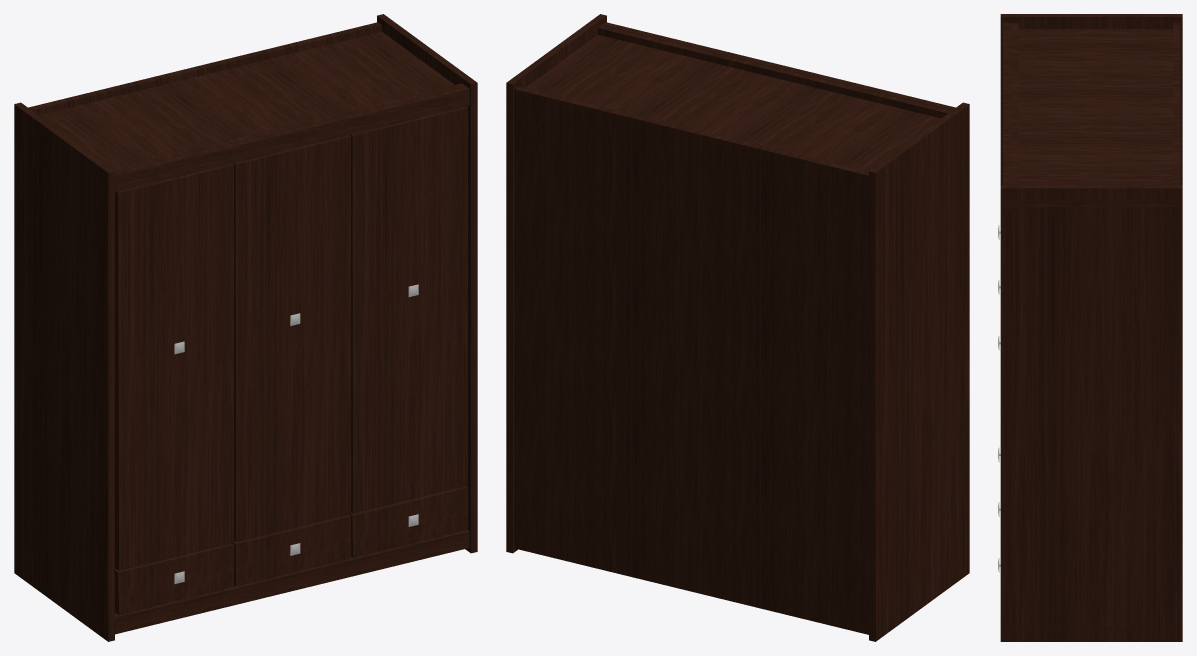
Rendered from wooden-cab7.glb.
3 renders of one model, left to right at view 1: azimuth 30°, elevation 25°; view 2: azimuth 150°, elevation 25°; view 3: azimuth 270°, elevation 25°, orthographic. The views are drawn at different scales.
Parts seen in each view (by area): view 1: Cube_8_PBR_0; view 2: Cube_8_PBR_0; view 3: Cube_8_PBR_0.
Part boxes in pixels (left/top/right/bottom): Cube_8_PBR_0: left=14, top=14, right=477, bottom=641; Cube_8_PBR_0: left=506, top=14, right=969, bottom=641; Cube_8_PBR_0: left=998, top=14, right=1182, bottom=641.
Bounding box in the file's own units: 1.87 × 2.26 × 0.8341.
Materials: 2 (1 with a texture image).
